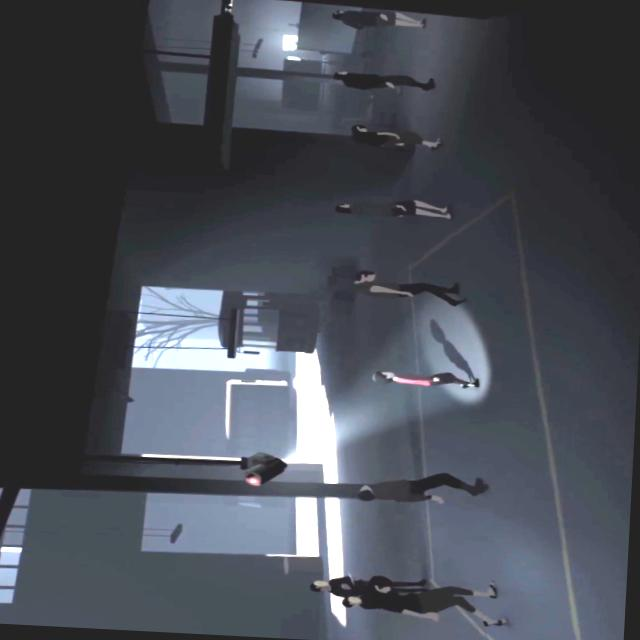boy: (372, 369, 479, 389)
human: (307, 573, 366, 600)
zombie: (361, 576, 505, 628), (356, 467, 492, 508), (355, 270, 464, 306), (333, 196, 454, 222), (336, 68, 433, 94), (350, 125, 440, 152), (330, 6, 426, 31)
